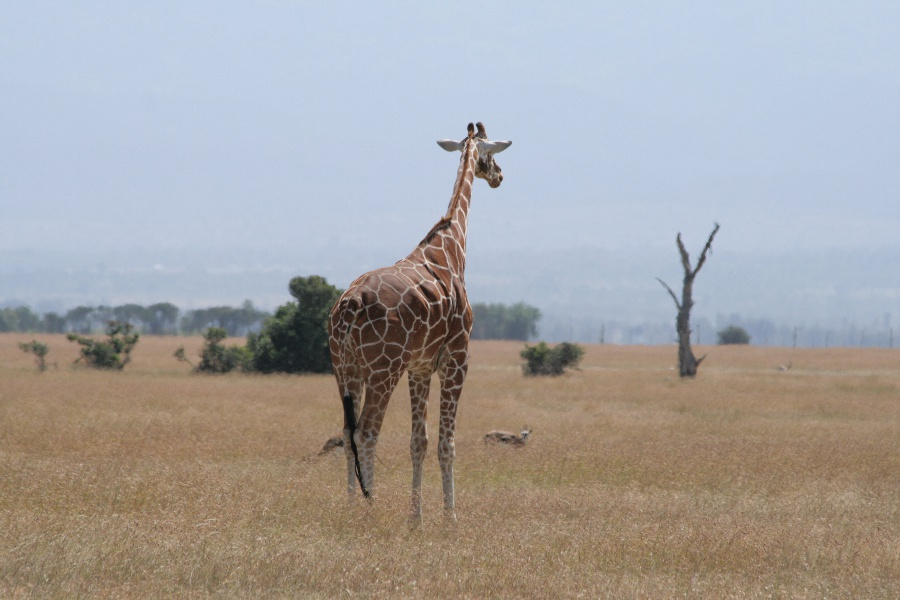giraffe: (318, 111, 519, 539)
